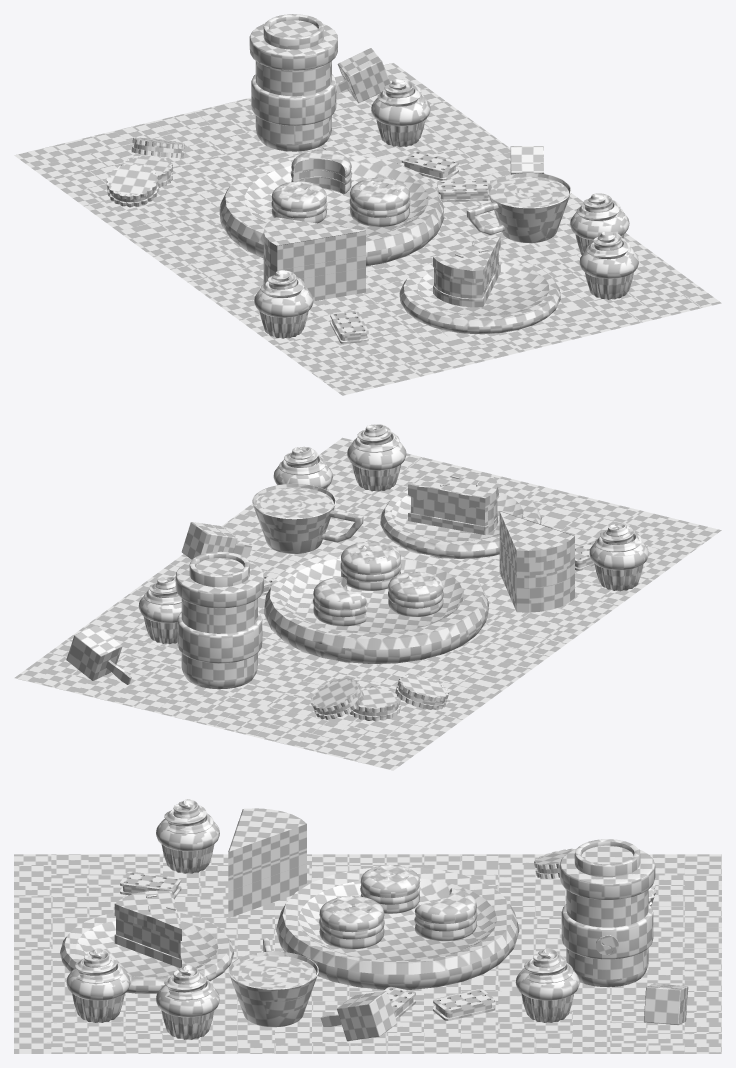
Rendered from Level_4.fbx.
3 views of the same model, one above another, from view 1: azimuth 30°, elevation 25°; view 2: azimuth 150°, elevation 25°; view 3: azimuth 270°, elevation 25° (orthographic). The views are drawn at different scales.
Visible parts, largest first — view 1: Plane_008, Plane_009, Plane_012, Plane_005, Plane_001, Plane_004, Circle_034, Plane_002, Plane_013, Plane_011, Circle_041, Plane_007 (+44 smaller); view 2: Circle_034, Plane_008, Plane_012, Circle_041, Plane_004, Plane_002, Plane_009, Plane_010, Plane_005, Plane_001, Circle_042, Plane_013 (+48 smaller); view 3: Circle_034, Plane_010, Circle_041, Plane_006, Plane_011, Plane_014, Plane_007, Plane_009, Plane_001, Plane_008, Plane, Plane_015 (+60 smaller).
Boxes of the visible parts, bbox=[...] form: Plane_008: bbox=[14, 111, 264, 269]; Plane_009: bbox=[187, 263, 521, 395]; Plane_012: bbox=[34, 106, 284, 264]; Plane_005: bbox=[170, 254, 504, 382]; Plane_001: bbox=[207, 258, 541, 390]; Plane_004: bbox=[31, 124, 262, 256]; Circle_034: bbox=[220, 154, 443, 252]; Plane_002: bbox=[51, 119, 282, 251]; Plane_013: bbox=[190, 250, 524, 378]; Plane_011: bbox=[421, 193, 721, 346]; Circle_041: bbox=[244, 161, 428, 236]; Plane_007: bbox=[413, 201, 704, 334]; Circle_034: bbox=[265, 550, 487, 649]; Plane_008: bbox=[214, 642, 548, 770]; Plane_012: bbox=[194, 638, 528, 765]; Circle_041: bbox=[280, 558, 463, 633]; Plane_004: bbox=[231, 651, 531, 757]; Plane_002: bbox=[211, 648, 511, 753]; Plane_009: bbox=[473, 486, 721, 643]; Plane_010: bbox=[14, 564, 285, 721]; Plane_005: bbox=[443, 500, 703, 656]; Plane_001: bbox=[464, 481, 701, 639]; Circle_042: bbox=[264, 597, 488, 663]; Plane_013: bbox=[437, 504, 684, 651]; Circle_034: bbox=[277, 866, 517, 974]; Plane_010: bbox=[386, 959, 721, 1053]; Circle_041: bbox=[298, 878, 496, 960]; Plane_006: bbox=[424, 959, 684, 1053]; Plane_011: bbox=[14, 959, 349, 1053]; Plane_014: bbox=[386, 970, 721, 1043]; Plane_007: bbox=[51, 959, 386, 1053]; Plane_009: bbox=[14, 854, 349, 948]; Plane_001: bbox=[14, 865, 349, 959]; Plane_008: bbox=[386, 854, 721, 948]; Plane: bbox=[424, 970, 684, 1043]; Plane_015: bbox=[51, 970, 386, 1043].
Size of the model in its own units: 895 by 252 by 1329.
Materials: 1 (1 with a texture image).
